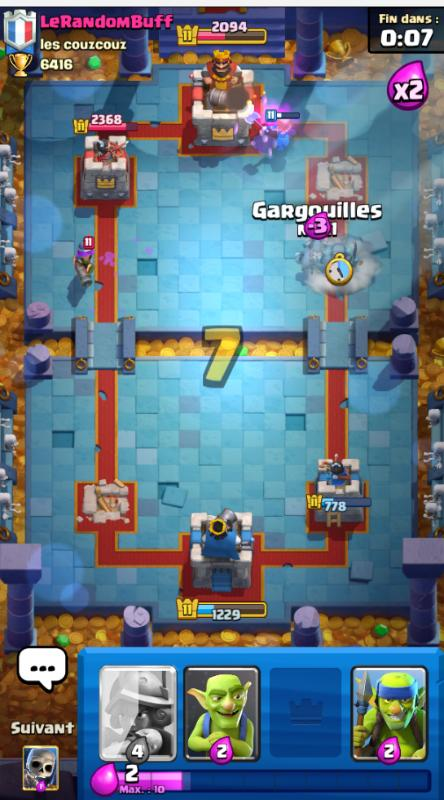mousquetaire: (73, 229, 107, 280)
valkyrie: (268, 110, 296, 154)
